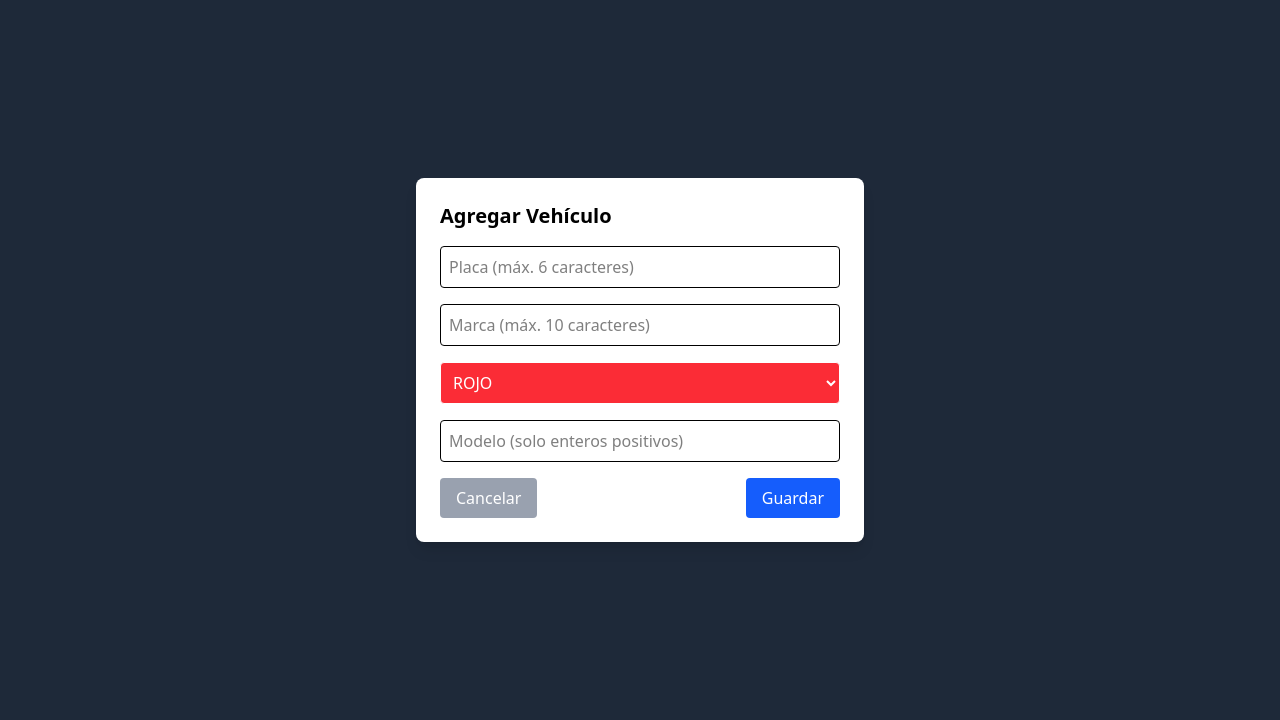
Test: AddVehicle Component - validateForm › shows an error if 'marca' exceeds 10 characters
Type "MarcaMuyLarga" into the field with placeholder "Marca (máx. 10 caracteres)" at [640, 325], box [440,304,840,346]
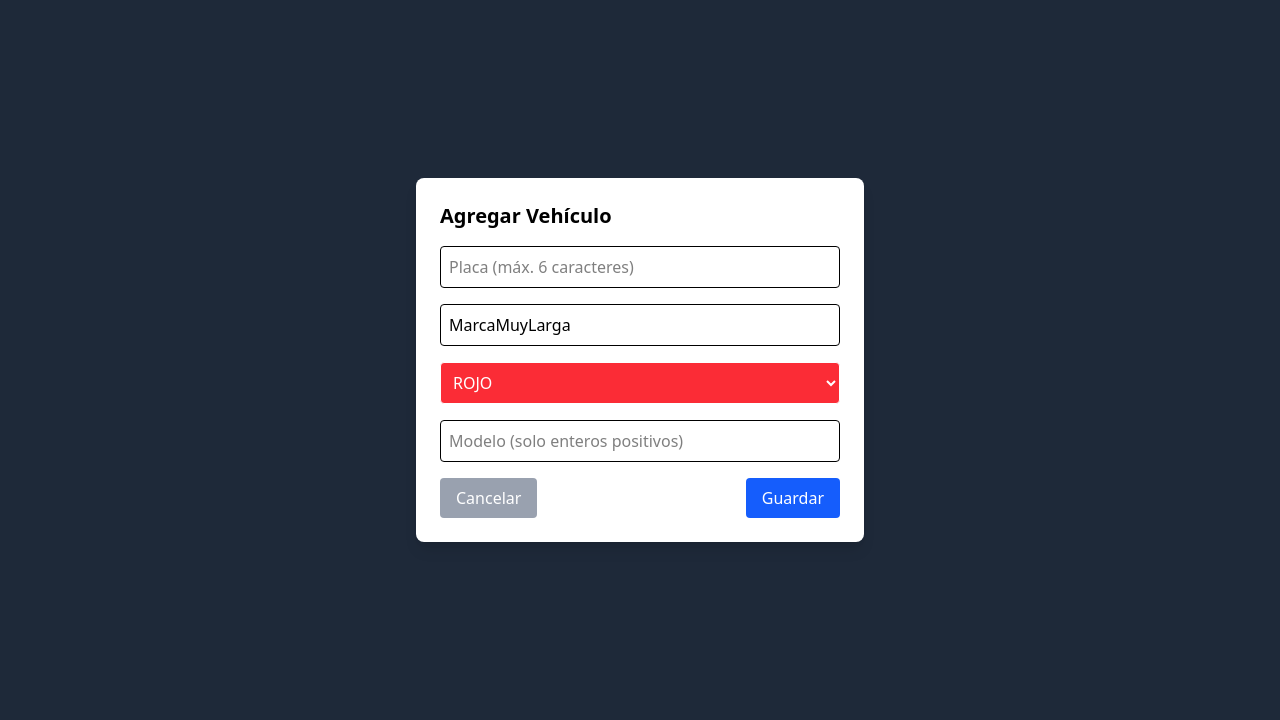
Type "ABCDEFG" into the field with placeholder "Placa (máx. 6 caracteres)" at [640, 267], box [440,246,840,288]
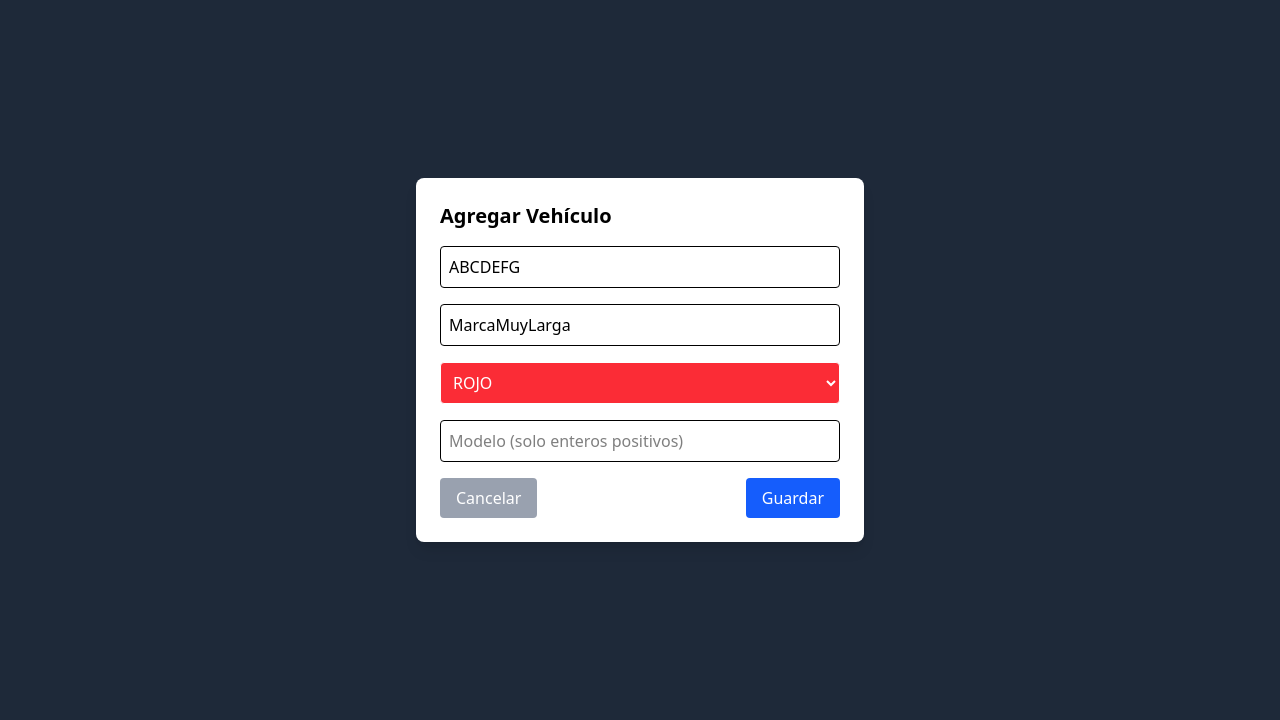
Type "2020" into the number field with placeholder "Modelo (solo enteros positivos)" at [640, 441], box [440,420,840,462]
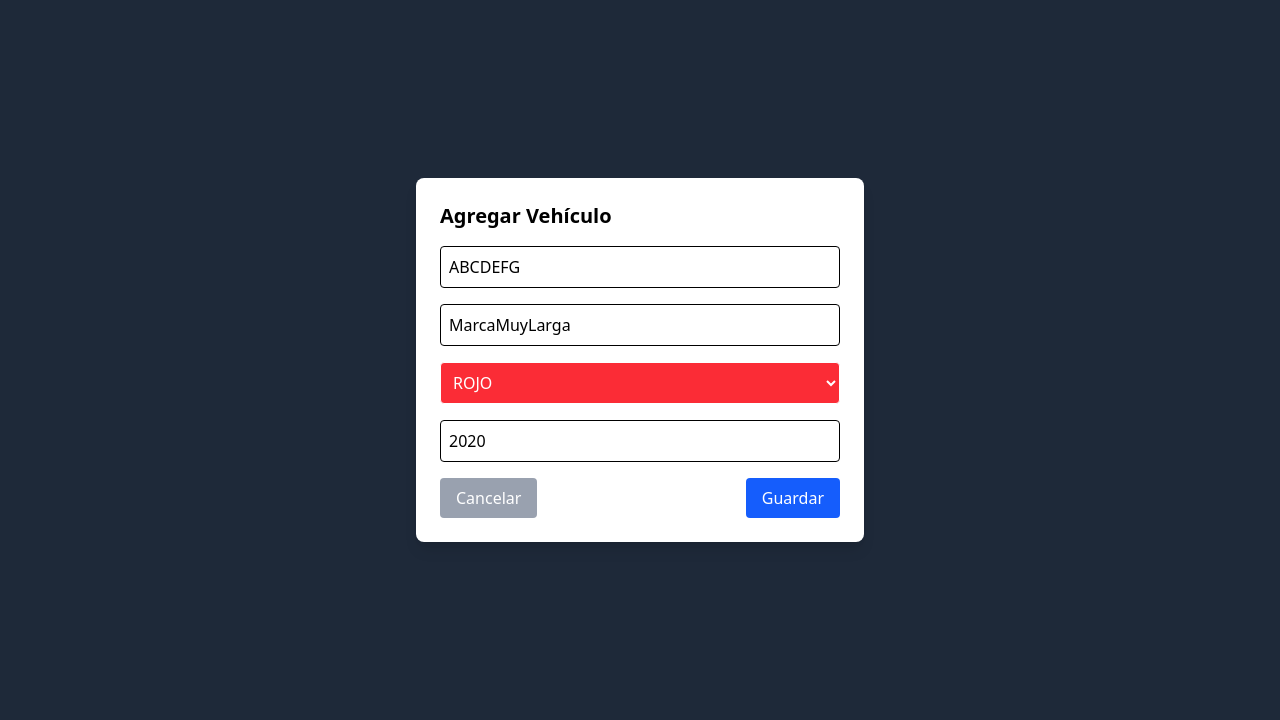
Click the button "Guardar" at [793, 498], box [746,478,840,518]
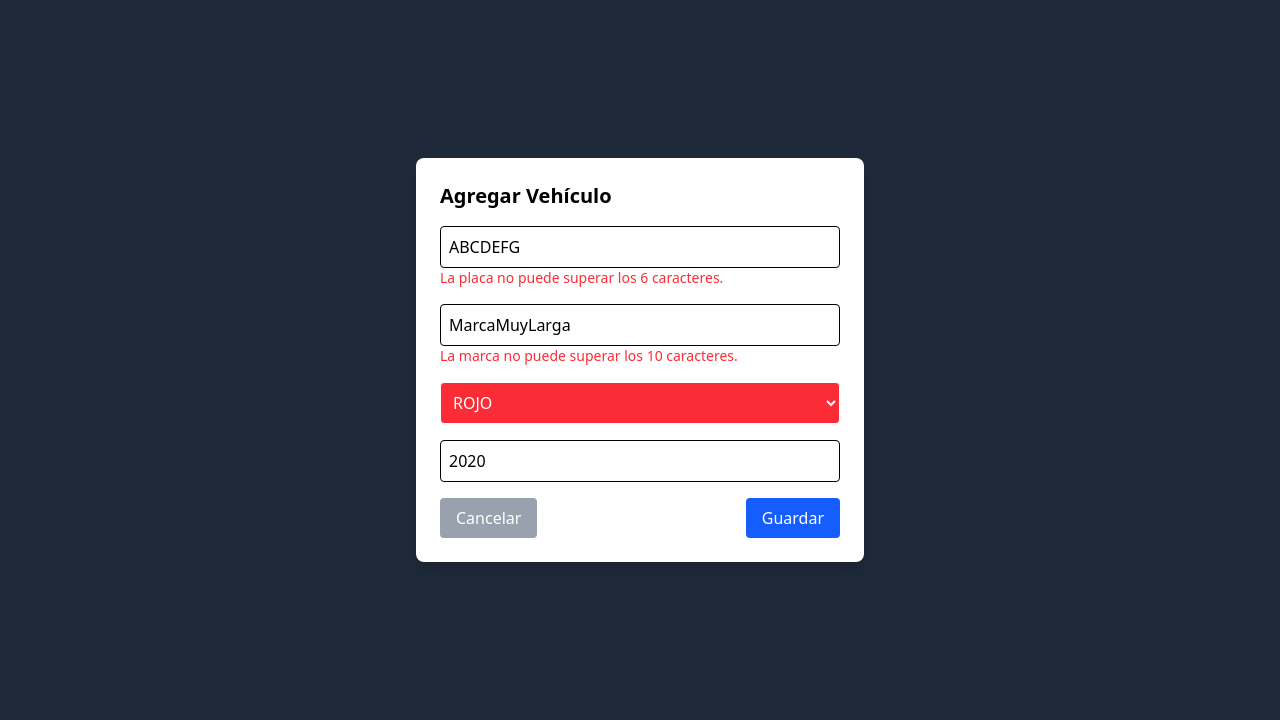
Now the text "La marca no puede superar los 10 caracteres." is shown, box [440,346,738,365]
